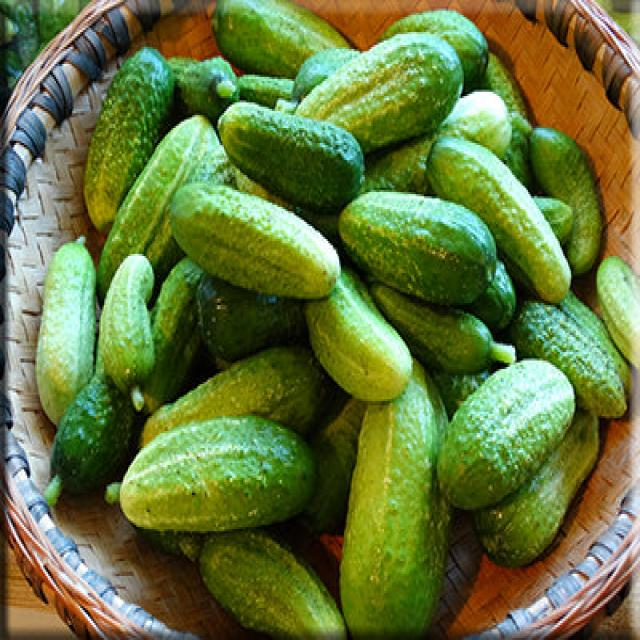Pickle: (340, 360, 450, 638), (426, 137, 571, 302), (120, 418, 316, 531), (99, 115, 219, 296), (438, 360, 575, 509), (296, 33, 464, 152), (170, 183, 340, 298), (474, 412, 599, 566), (144, 348, 334, 446), (339, 192, 496, 306), (85, 47, 174, 231), (219, 102, 364, 212), (199, 530, 346, 638), (305, 272, 412, 402), (509, 300, 626, 418), (36, 238, 96, 424), (50, 362, 134, 492), (530, 127, 602, 274), (142, 258, 204, 412), (99, 253, 155, 411)
